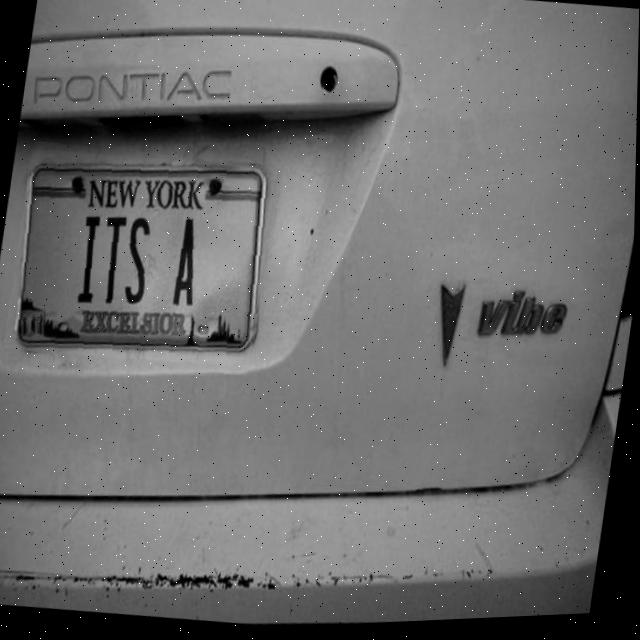LicensePlate: (12, 163, 270, 358)
